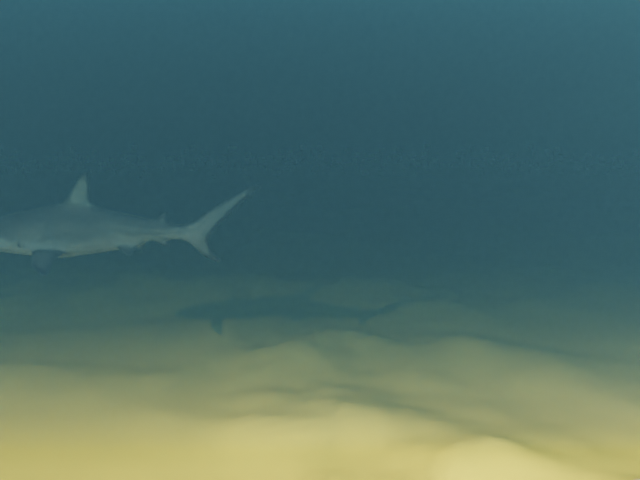Carribean Shark.001: (0, 173, 259, 276)
